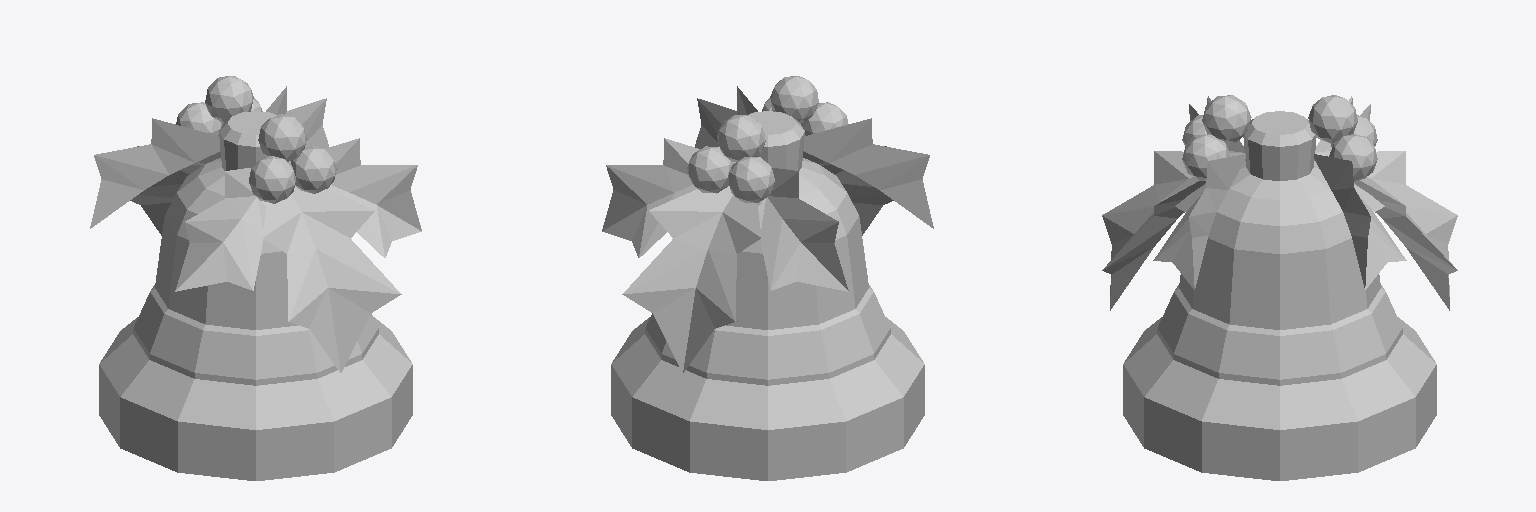
The model's file is bell_decorated.obj.
3 renders of one model, left to right at view 1: azimuth 30°, elevation 25°; view 2: azimuth 150°, elevation 25°; view 3: azimuth 270°, elevation 25°, orthographic.
Visible parts, largest first — view 1: bell_decorated; view 2: bell_decorated; view 3: bell_decorated.
Boxes of the visible parts, box(x1,y1,x2,y2) form: bell_decorated: box(90, 76, 421, 480); bell_decorated: box(602, 76, 933, 480); bell_decorated: box(1102, 95, 1457, 480).
Size of the model in its own units: 0.806 by 0.9035 by 0.9158.